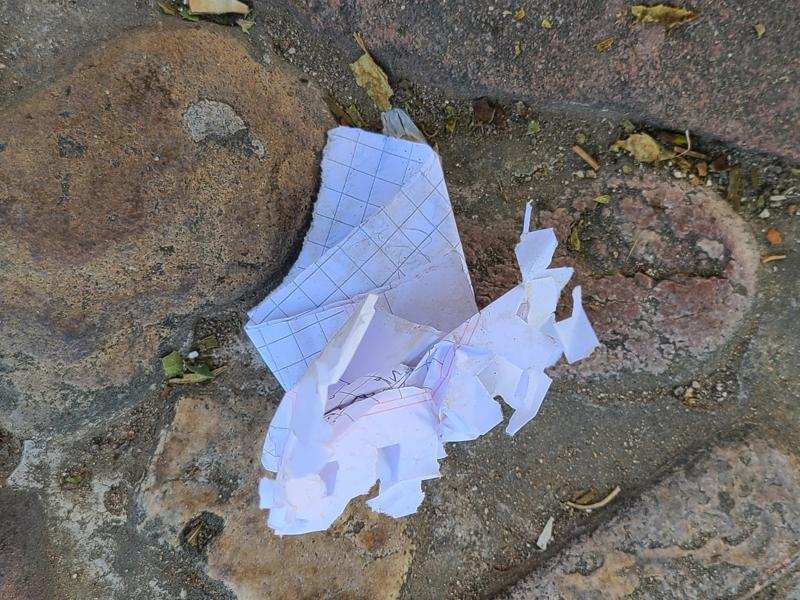papel: (242, 127, 596, 538)
